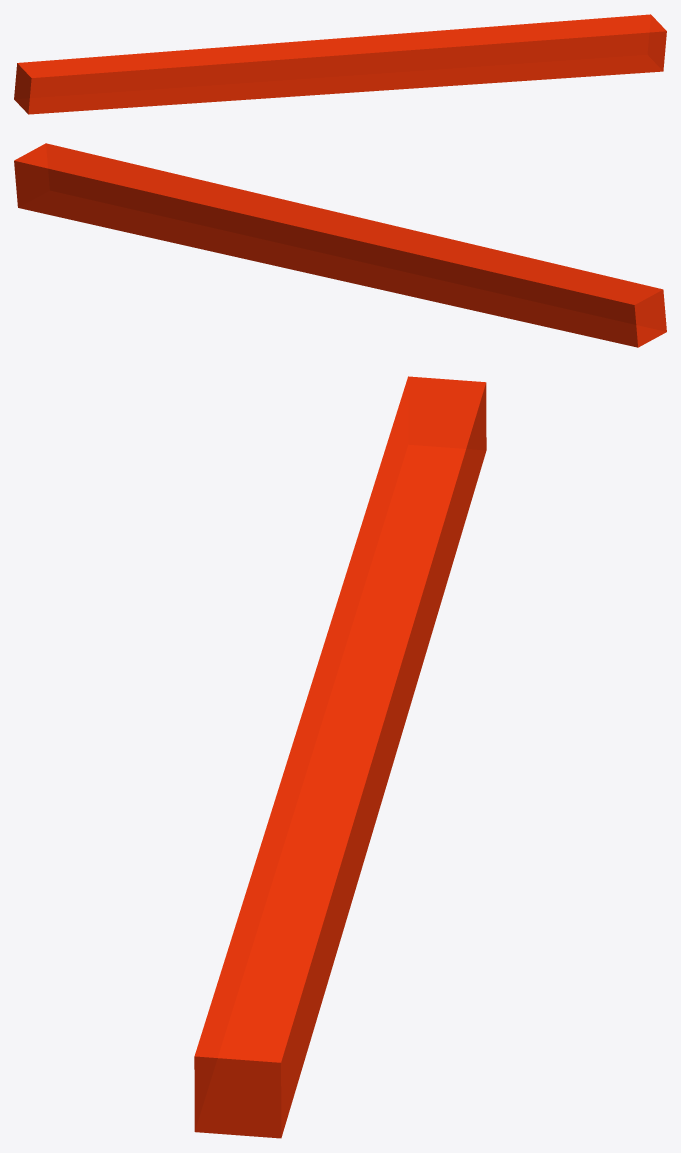
File: Event_420107950_EErechit_85.fbx
3 renders of one model, top to bottom at view 1: azimuth 30°, elevation 25°; view 2: azimuth 150°, elevation 25°; view 3: azimuth 270°, elevation 25°, orthographic. The views are drawn at different scales.
Visible parts, largest first — view 1: Model; view 2: Model; view 3: Model.
Boxes of the visible parts, bbox=[...] form: Model: bbox=[14, 14, 666, 114]; Model: bbox=[14, 143, 666, 347]; Model: bbox=[194, 376, 486, 1138].
Bounding box in the file's own units: 1.25 × 0.1943 × 0.2681.
